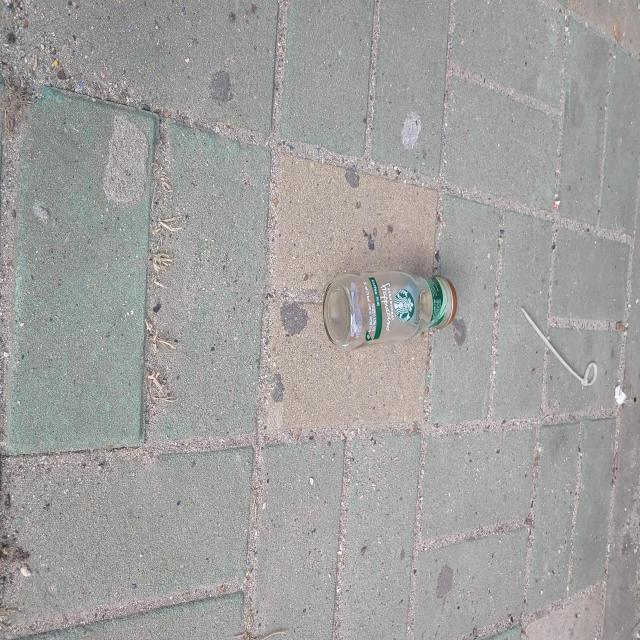glass: (323, 270, 458, 350)
